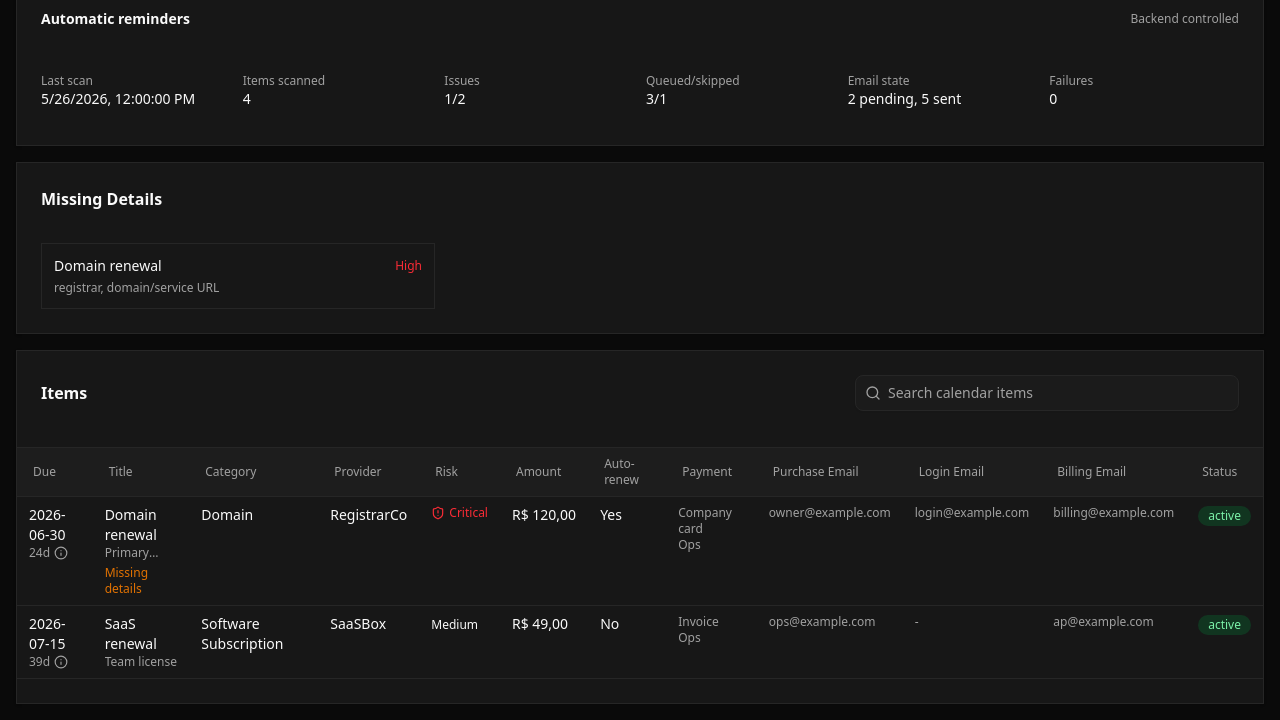
it: Calendar › organizes item editing into tabs
(page scrolled)
Click the button with test id "calendar-item-row-item-1".
click(47, 514)  # box [17,496,1263,605]
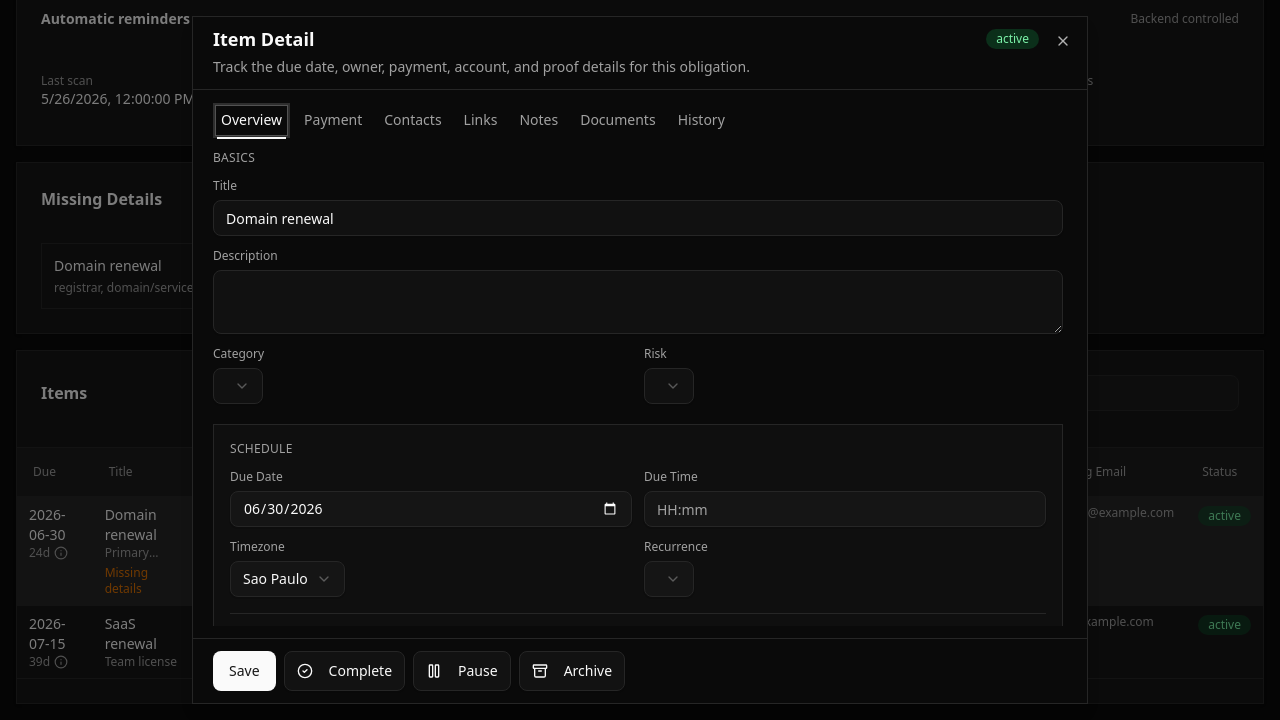
Check: the text "Overview" is shown, box [216,106,287,134]
Check: the text "Contacts" is shown, box [379,106,447,134]
Check: the text "Links" is shown, box [459,106,502,134]
Click the tab with test id "calendar-tab-payment".
click(333, 120)  # box [299,106,367,134]
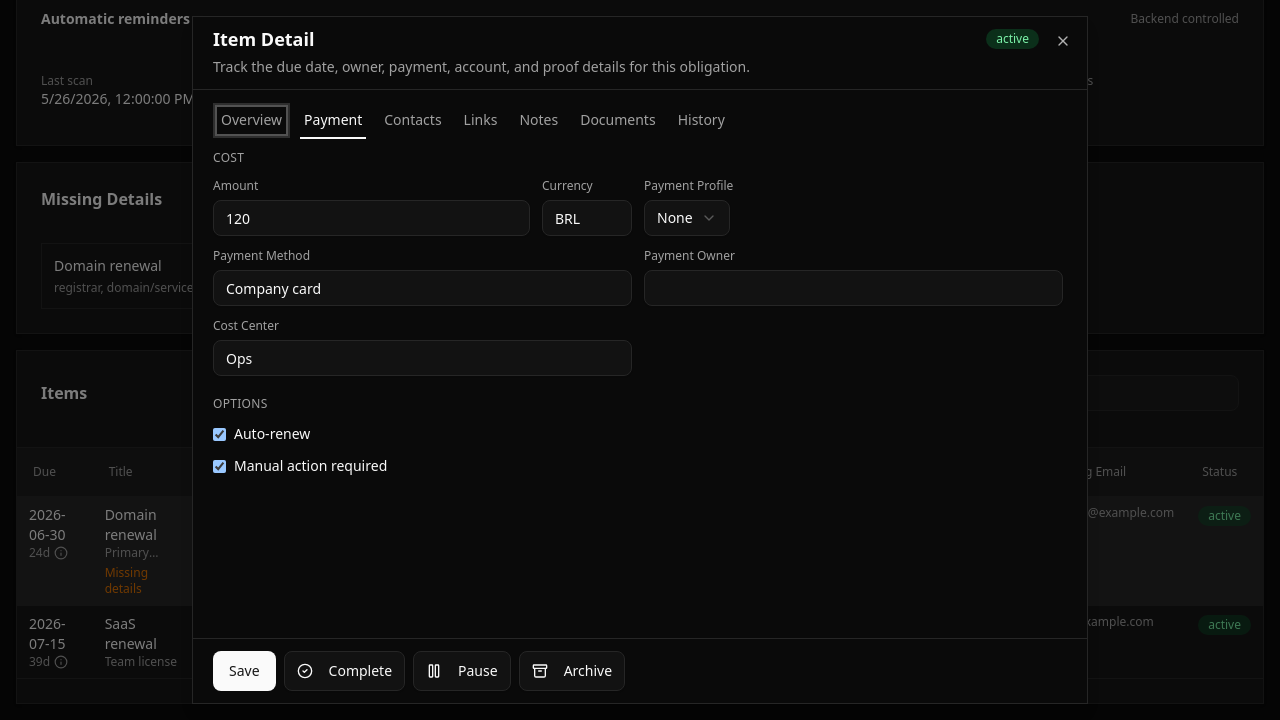
Check: the text "Payment Profile" is shown, box [644,177,733,194]
Check: the text "Cost Center" is shown, box [213,317,279,334]
